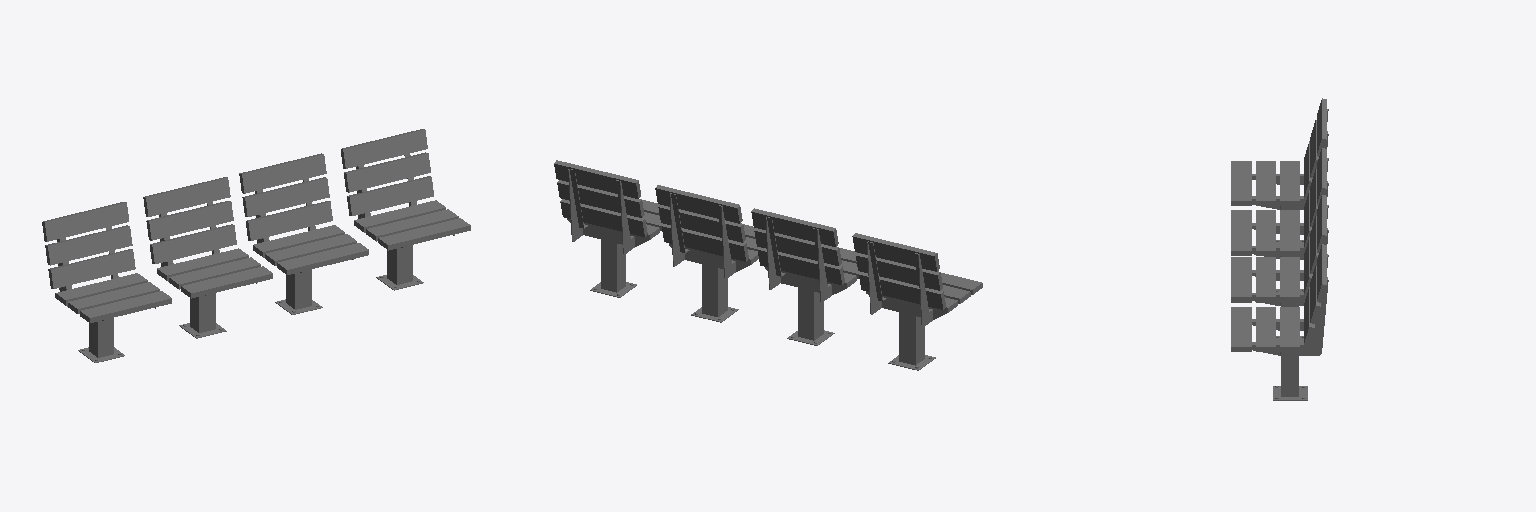
File: silla.obj
The picture shows the model from 3 angles: view 1: azimuth 30°, elevation 25°; view 2: azimuth 150°, elevation 25°; view 3: azimuth 270°, elevation 25°; orthographic projection.
Parts seen in each view (by area): view 1: Outdoor_Chair003, Outdoor_Chair002, Outdoor_Chair001, Outdoor_Chair; view 2: Outdoor_Chair, Outdoor_Chair001, Outdoor_Chair003, Outdoor_Chair002; view 3: Outdoor_Chair003, Outdoor_Chair002, Outdoor_Chair, Outdoor_Chair001.
Boxes of the visible parts, <box> form: Outdoor_Chair003: <box>341,129,470,290</box>; Outdoor_Chair002: <box>239,153,368,314</box>; Outdoor_Chair001: <box>143,177,272,338</box>; Outdoor_Chair: <box>42,202,171,362</box>; Outdoor_Chair: <box>852,233,982,370</box>; Outdoor_Chair001: <box>751,208,859,345</box>; Outdoor_Chair003: <box>554,160,662,297</box>; Outdoor_Chair002: <box>655,185,758,322</box>; Outdoor_Chair003: <box>1231,244,1328,400</box>; Outdoor_Chair002: <box>1231,195,1328,341</box>; Outdoor_Chair: <box>1231,98,1328,245</box>; Outdoor_Chair001: <box>1231,148,1328,292</box>.
Size of the model in its own units: 26.03 by 8.47 by 5.77.